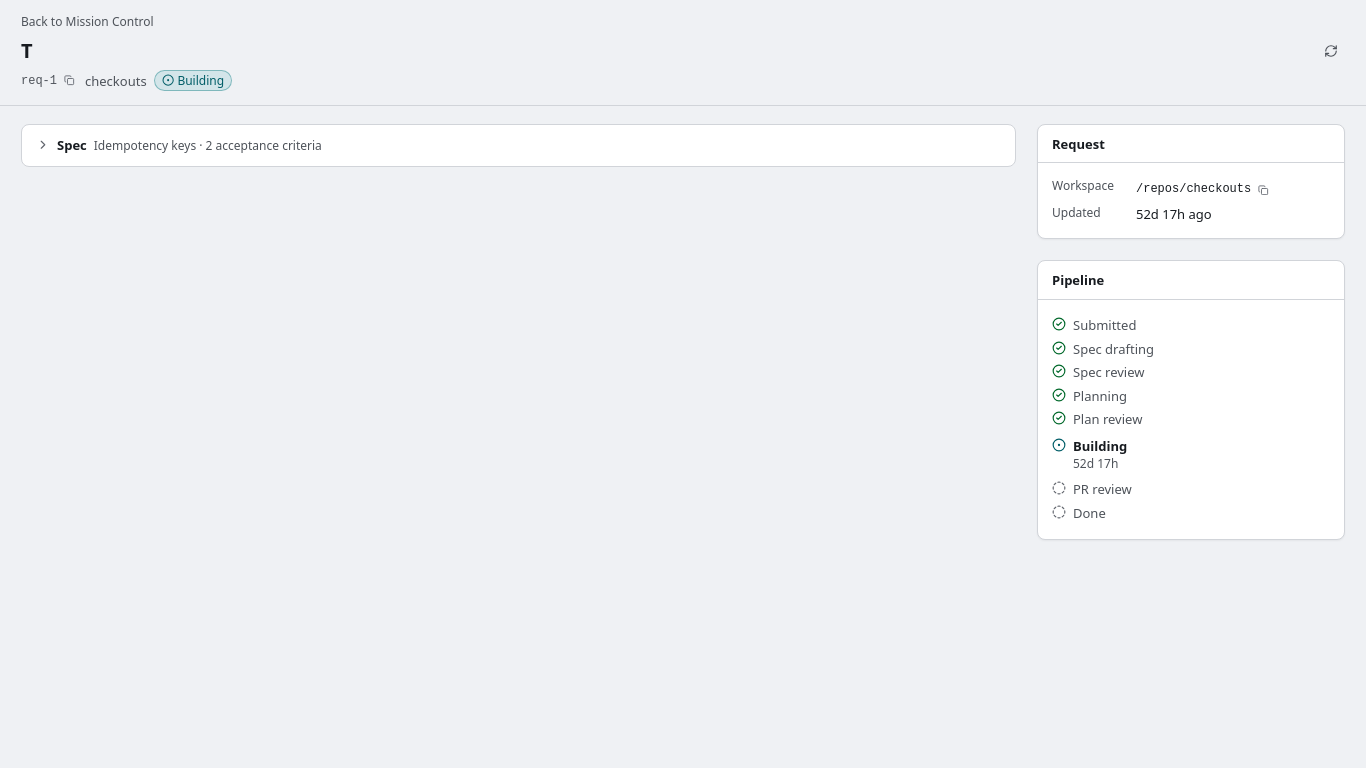
Scenario: later states fold the spec and each plan to one line, expandable in place › expanding shows the whole text, untruncated
Check: the heading "T" is shown, box [21, 37, 33, 64]
Click the heading "Spec". click: point(72, 145)
box: [57, 135, 87, 155]
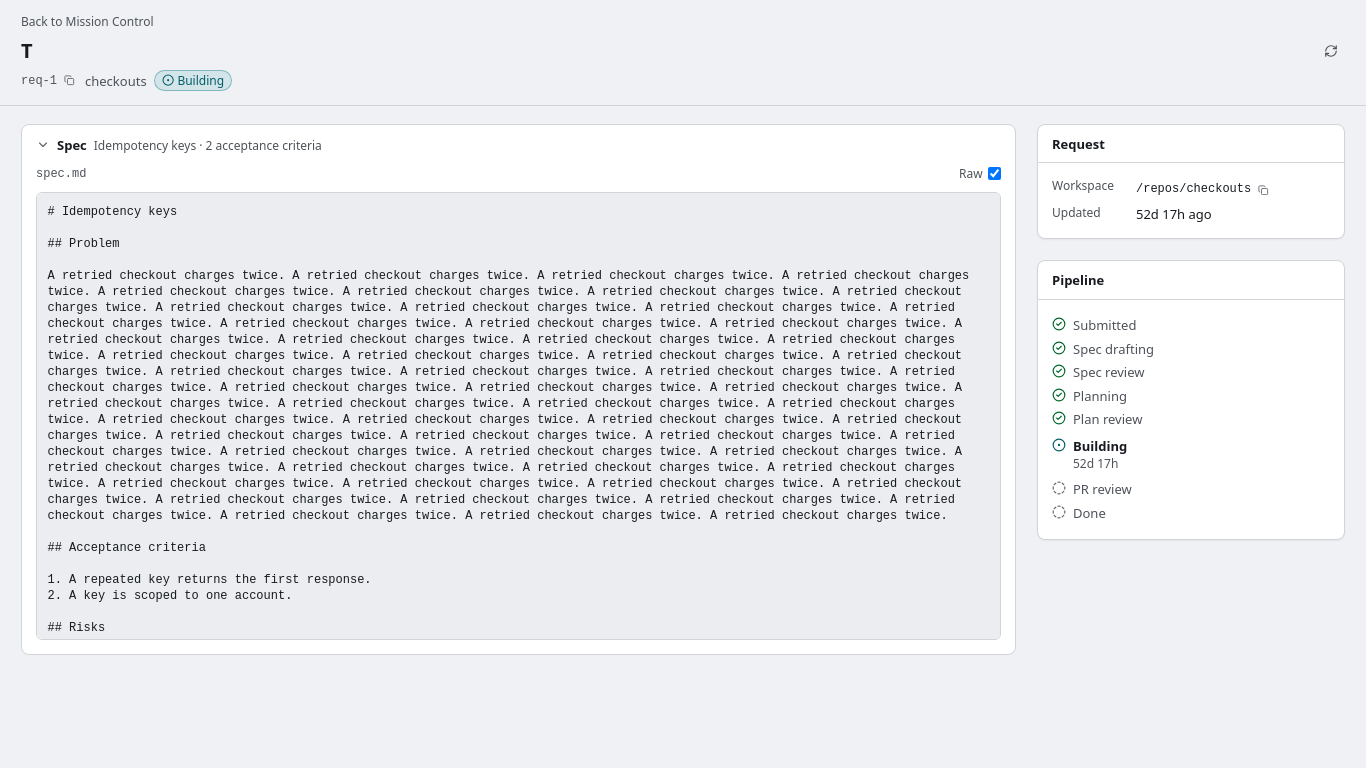
Check: the element with test id "markdown-raw-content" is shown, box [36, 192, 1001, 640]
Check: the element with test id "markdown-raw-content" shows "## Problem", box [48, 205, 976, 667]
